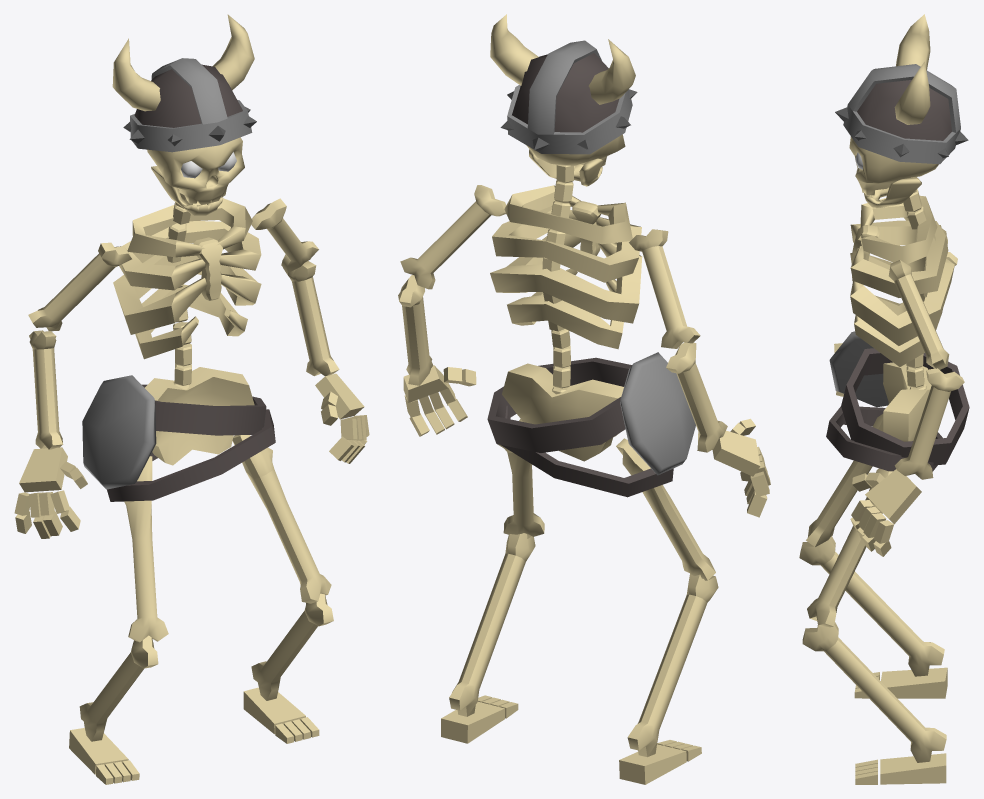
Rendered from skeleton_VIKING_frame01.fbx.
3 views of the same model, side by side, from view 1: azimuth 30°, elevation 25°; view 2: azimuth 150°, elevation 25°; view 3: azimuth 270°, elevation 25° (orthographic). The views are drawn at different scales.
Visible parts, largest first — view 1: viking_vikinghelmet; view 2: viking_vikinghelmet; view 3: viking_vikinghelmet.
Part boxes in pixels (x1=…): viking_vikinghelmet: x1=14, y1=14, x2=369, y2=784; viking_vikinghelmet: x1=398, y1=14, x2=770, y2=784; viking_vikinghelmet: x1=799, y1=14, x2=969, y2=784.
Size of the model in its own units: 96.32 by 185 by 40.84.
